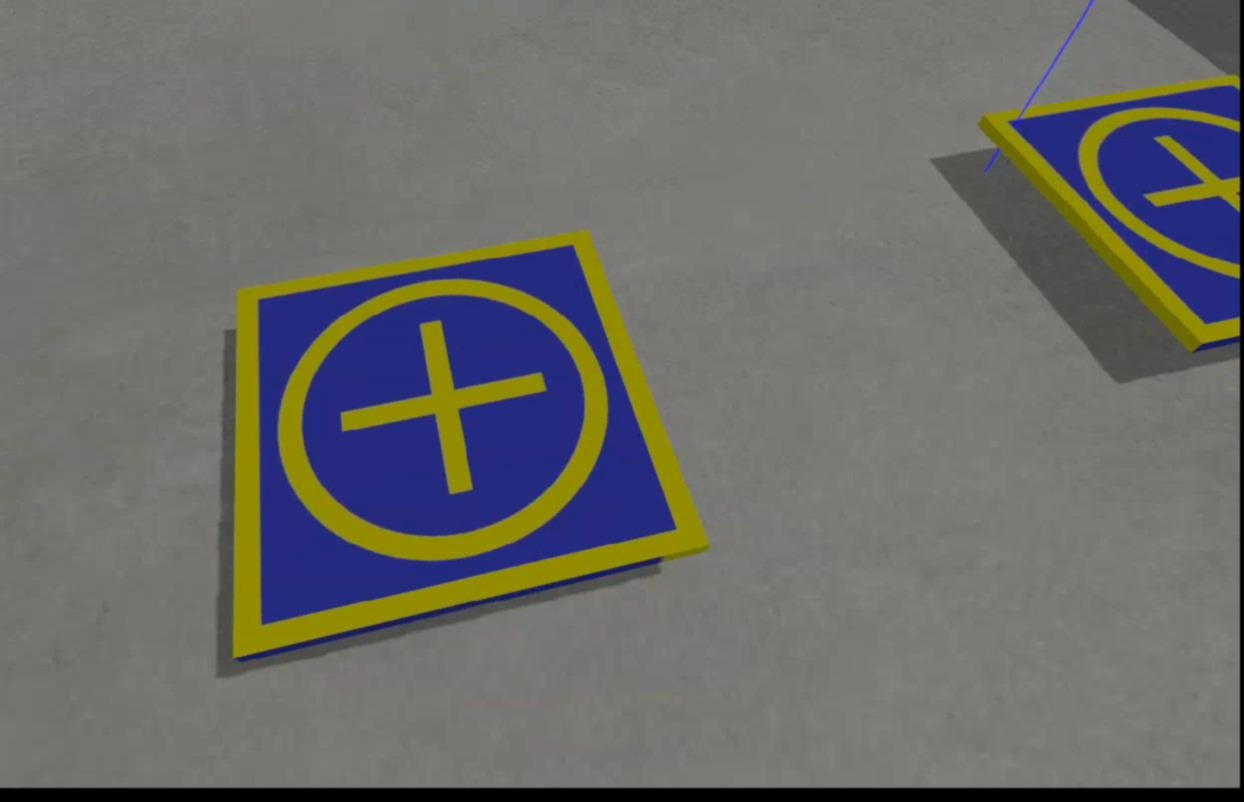small_base: (234, 227, 716, 670), (976, 73, 1242, 360)
